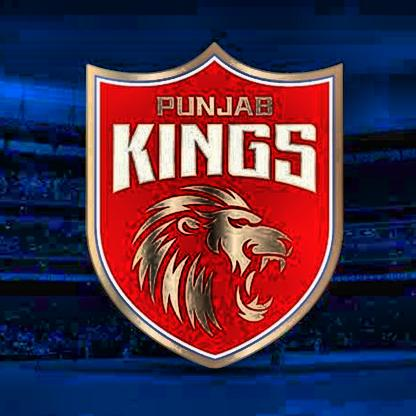Punjab Kings: (90, 42, 343, 371)
